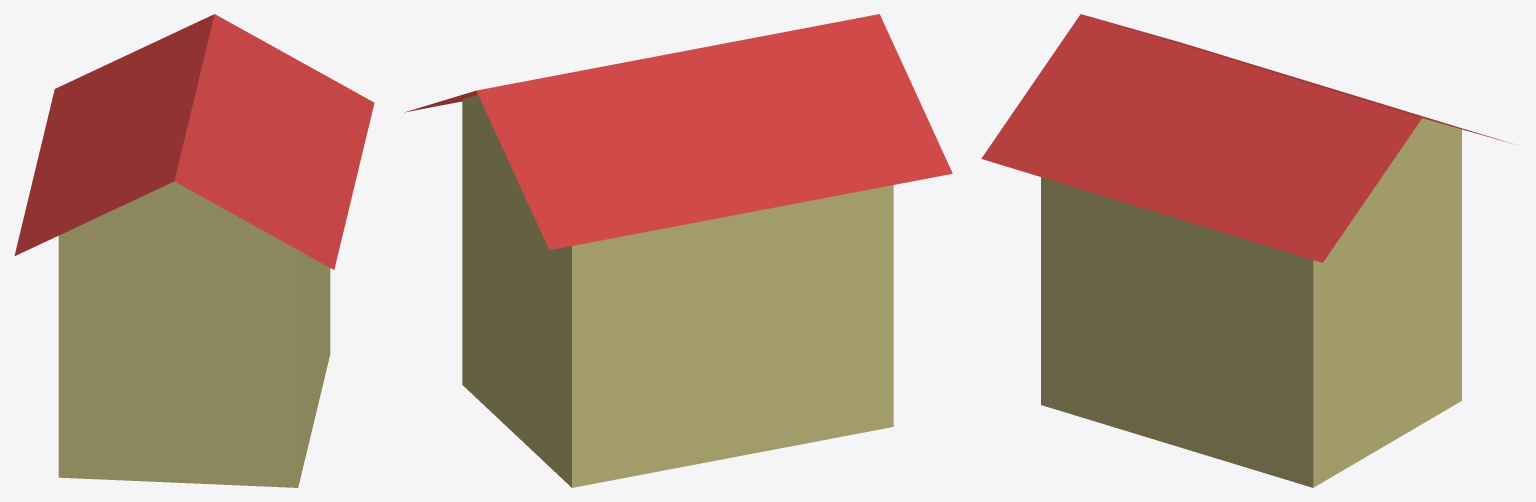
3 views of the same model, side by side, from view 1: azimuth 30°, elevation 25°; view 2: azimuth 150°, elevation 25°; view 3: azimuth 270°, elevation 25° (orthographic). The views are drawn at different scales.
Size of the model in its own units: 12.22 by 12.65 by 8.7.
